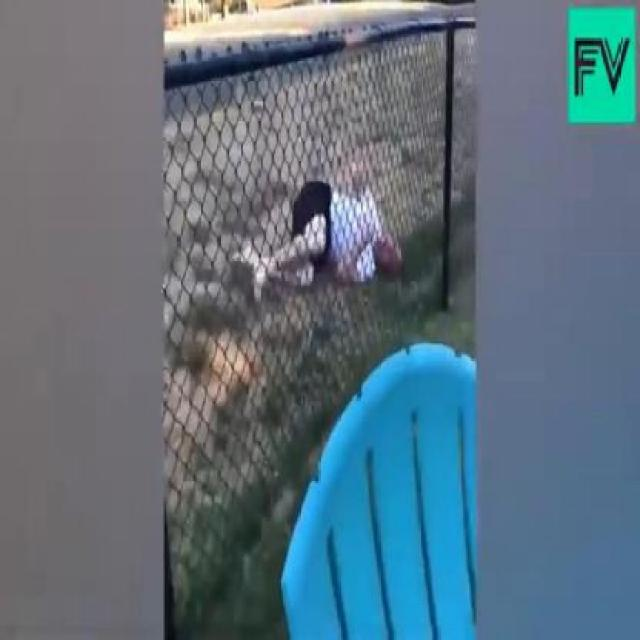fall: (238, 175, 396, 298)
